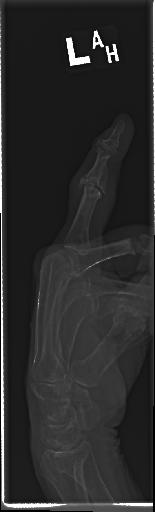fingers positive: (91, 129, 128, 172), (70, 167, 107, 195), (125, 230, 147, 267)
